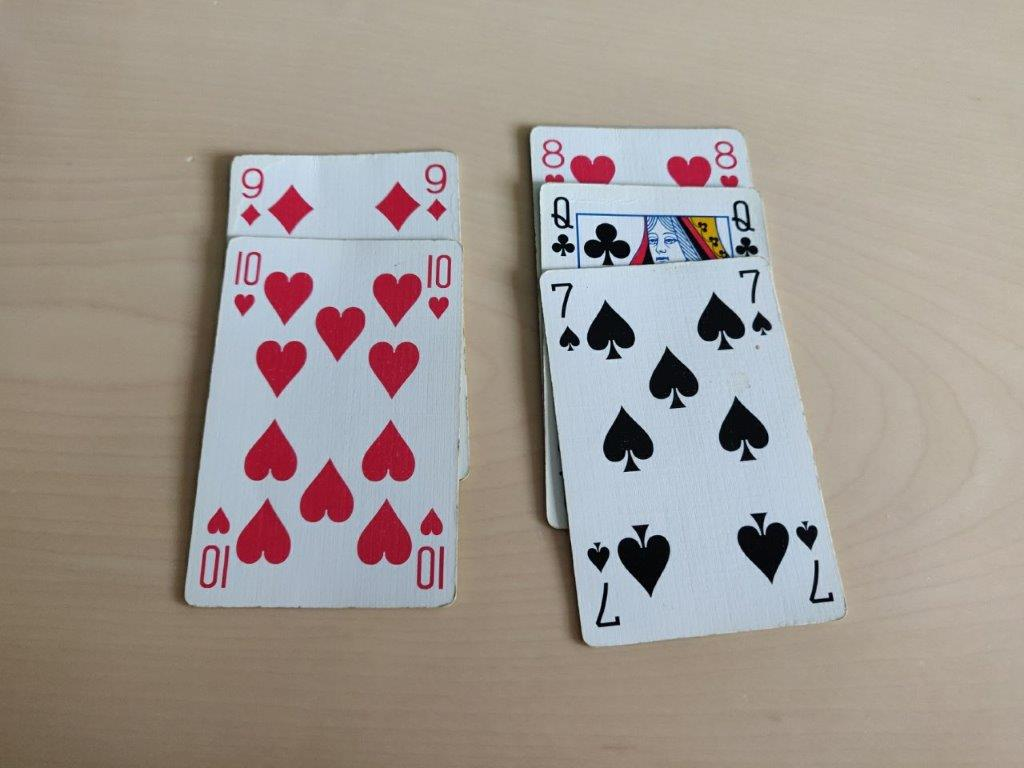10H: (227, 241, 263, 319), (421, 248, 457, 326)
7S: (549, 279, 588, 357), (737, 266, 776, 344)
8H: (536, 128, 567, 187), (713, 133, 744, 192)
9D: (234, 159, 266, 230), (420, 157, 452, 228)
QC: (549, 192, 577, 261), (732, 195, 760, 264)
